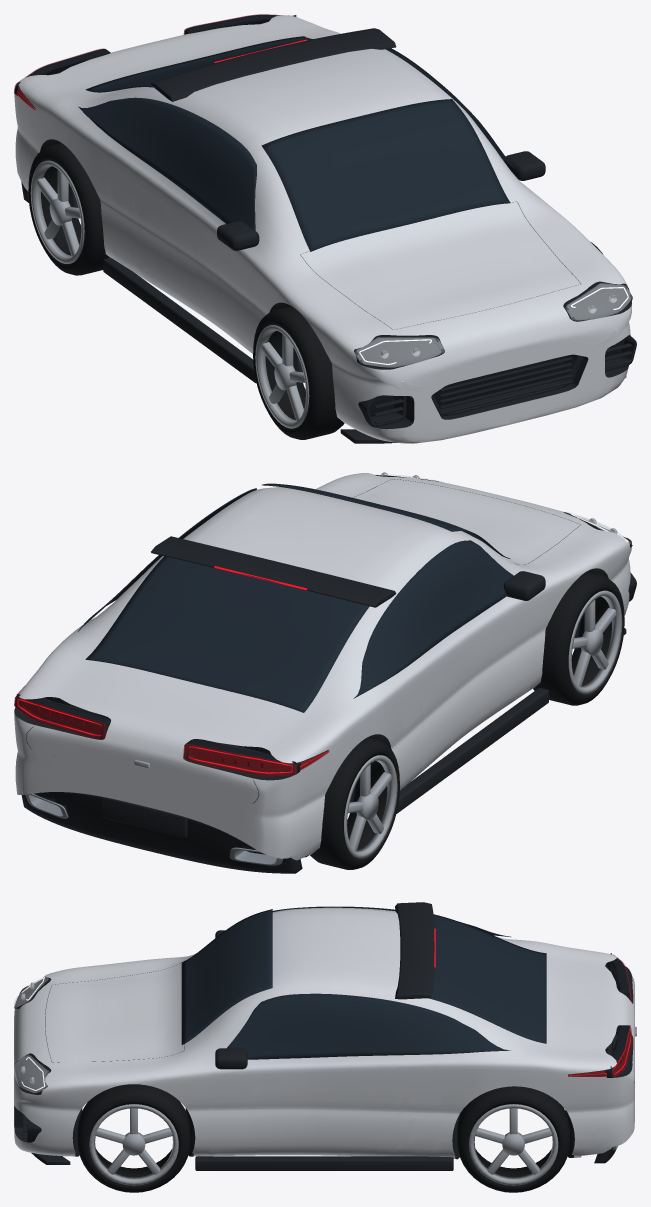
File: car.opt.glb
3 renders of one model, top to bottom at view 1: azimuth 30°, elevation 25°; view 2: azimuth 150°, elevation 25°; view 3: azimuth 270°, elevation 25°, orthographic. The views are drawn at different scales.
Parts seen in each view (by area): view 1: Body, Cabin_Glass, Wheel_FL, Wheel_RL, Roof_Spoiler, Trim, Headlight_L, Headlight_R, Headlamp_Back_L, Grille, Headlamp_Back_R, Front_Intake_Duct (+4 smaller); view 2: Body, Cabin_Glass, Wheel_FL, Wheel_RL, Bumper_Rear, Roof_Spoiler, Trim, Plate_Recess, Taillight_L, Taillight_R, Taillamp_Frame_L, Taillamp_Frame_R (+4 smaller); view 3: Body, Cabin_Glass, Wheel_FR, Wheel_RR, Trim, Roof_Spoiler, Headlight_R, Mirror_R, Headlamp_Back_R, Taillamp_Frame_R.
Boxes of the visible parts, x1,y1,x2,y2 form: Body: [14, 15, 631, 443]; Cabin_Glass: [78, 36, 514, 251]; Wheel_FL: [253, 306, 344, 439]; Wheel_RL: [28, 142, 109, 275]; Roof_Spoiler: [151, 28, 396, 101]; Trim: [103, 257, 256, 383]; Headlight_L: [355, 337, 445, 367]; Headlight_R: [566, 283, 631, 320]; Headlamp_Back_L: [356, 337, 438, 365]; Grille: [433, 355, 566, 406]; Headlamp_Back_R: [567, 283, 628, 318]; Front_Intake_Duct: [431, 354, 583, 416]; Body: [14, 473, 631, 860]; Cabin_Glass: [78, 483, 513, 712]; Wheel_FL: [533, 571, 624, 705]; Wheel_RL: [310, 737, 399, 869]; Bumper_Rear: [21, 792, 302, 873]; Roof_Spoiler: [151, 536, 396, 607]; Trim: [396, 688, 548, 813]; Plate_Recess: [101, 797, 187, 837]; Taillight_L: [183, 744, 296, 776]; Taillight_R: [14, 697, 106, 739]; Taillamp_Frame_L: [184, 740, 300, 775]; Taillamp_Frame_R: [15, 696, 110, 738]; Body: [14, 907, 634, 1159]; Cabin_Glass: [181, 906, 546, 1059]; Wheel_FR: [77, 1084, 190, 1192]; Wheel_RR: [457, 1086, 569, 1192]; Trim: [195, 1156, 453, 1170]; Roof_Spoiler: [395, 902, 434, 999]; Headlight_R: [14, 1055, 48, 1093]; Mirror_R: [215, 1048, 247, 1069]; Headlamp_Back_R: [19, 1056, 48, 1092]; Taillamp_Frame_R: [605, 1025, 631, 1077].
Bounding box in the file's own units: 2.18 × 1.48 × 4.41.
